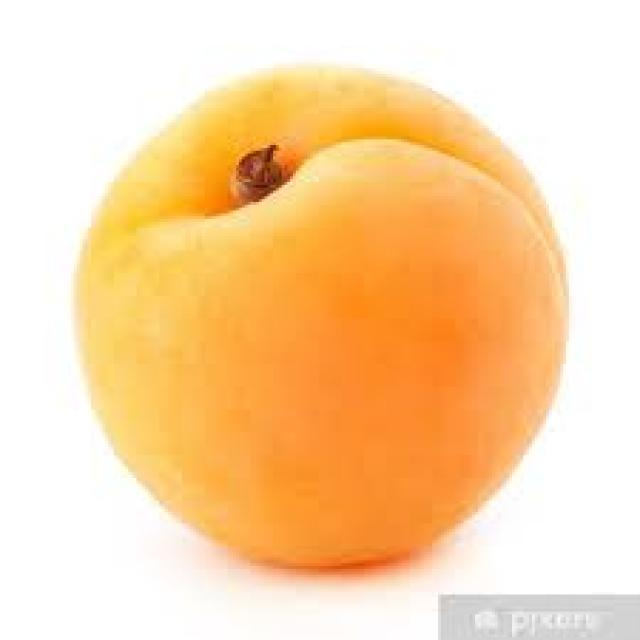kayisi: (51, 62, 592, 572)
